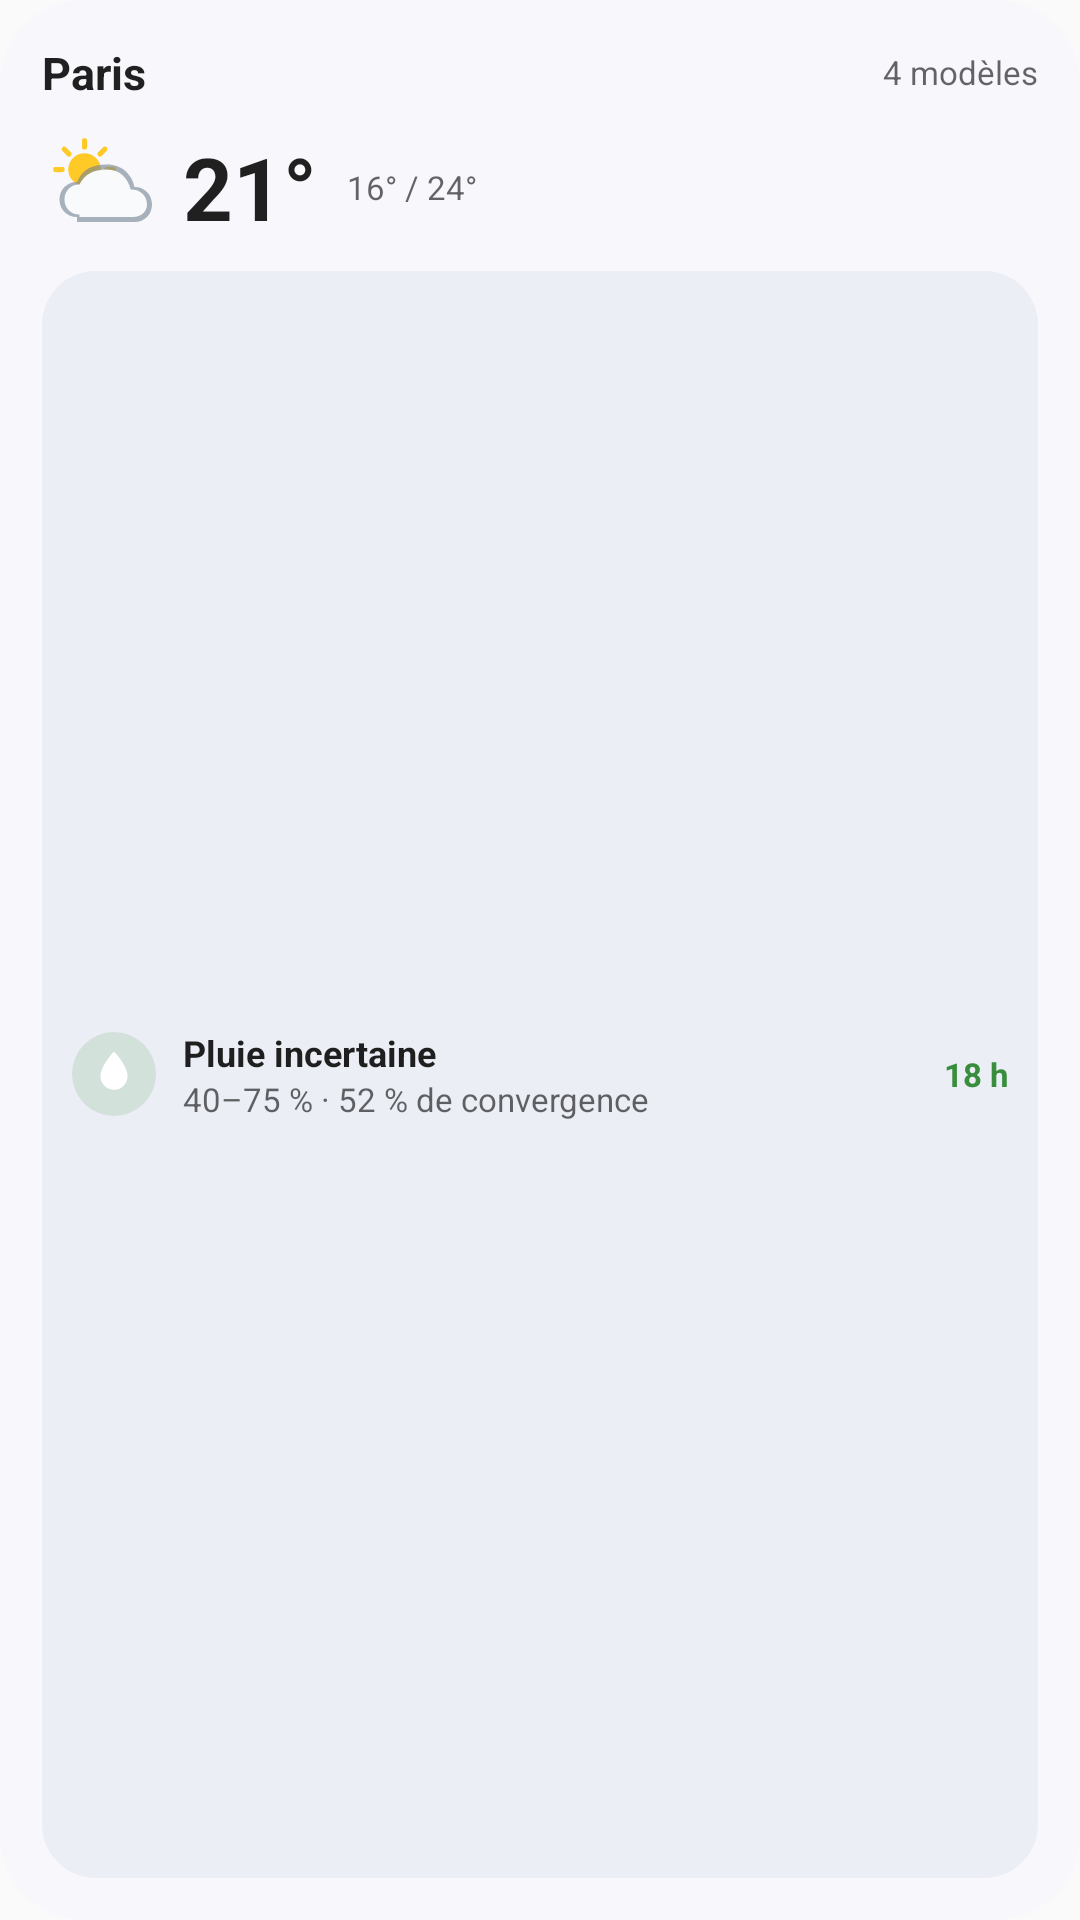

Where icons sit on this 1080px×1920px app screen, as (x1, y1, x2, y2):
widget value rain: (72, 1032, 156, 1116)
widget weather partly: (53, 138, 152, 222)
